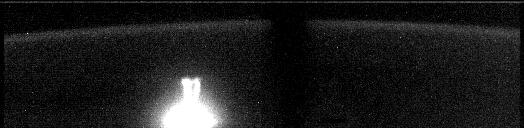positive: (178, 76, 204, 105)
